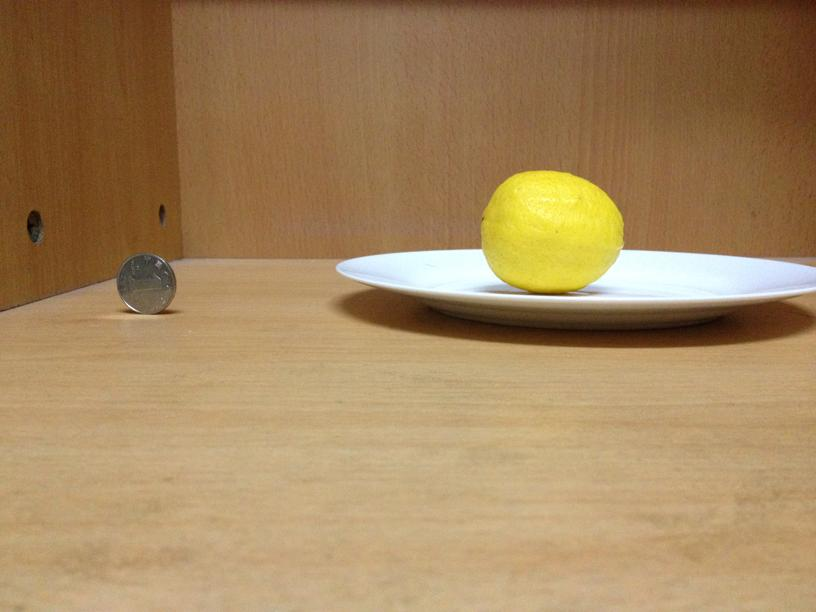coin: (118, 251, 173, 315)
lemon: (481, 169, 624, 289)
